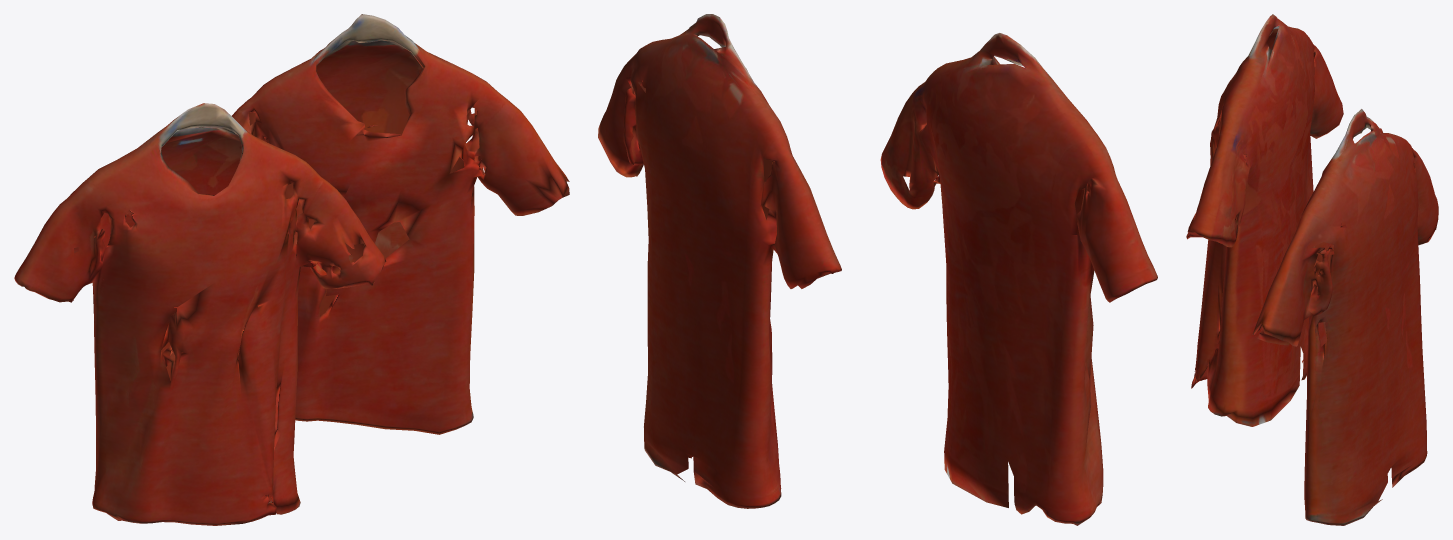
3 renders of one model, left to right at view 1: azimuth 30°, elevation 25°; view 2: azimuth 150°, elevation 25°; view 3: azimuth 270°, elevation 25°, orthographic. The views are drawn at different scales.
Parts seen in each view (by area): view 1: file1; view 2: file1; view 3: file1.
Boxes of the visible parts, x1,y1,x2,y2 form: file1: [14, 14, 569, 525]; file1: [598, 14, 1157, 525]; file1: [1186, 14, 1438, 525].
Bounding box in the file's own units: 2 × 1.51 × 0.8997.
1 material, 1 textured.
